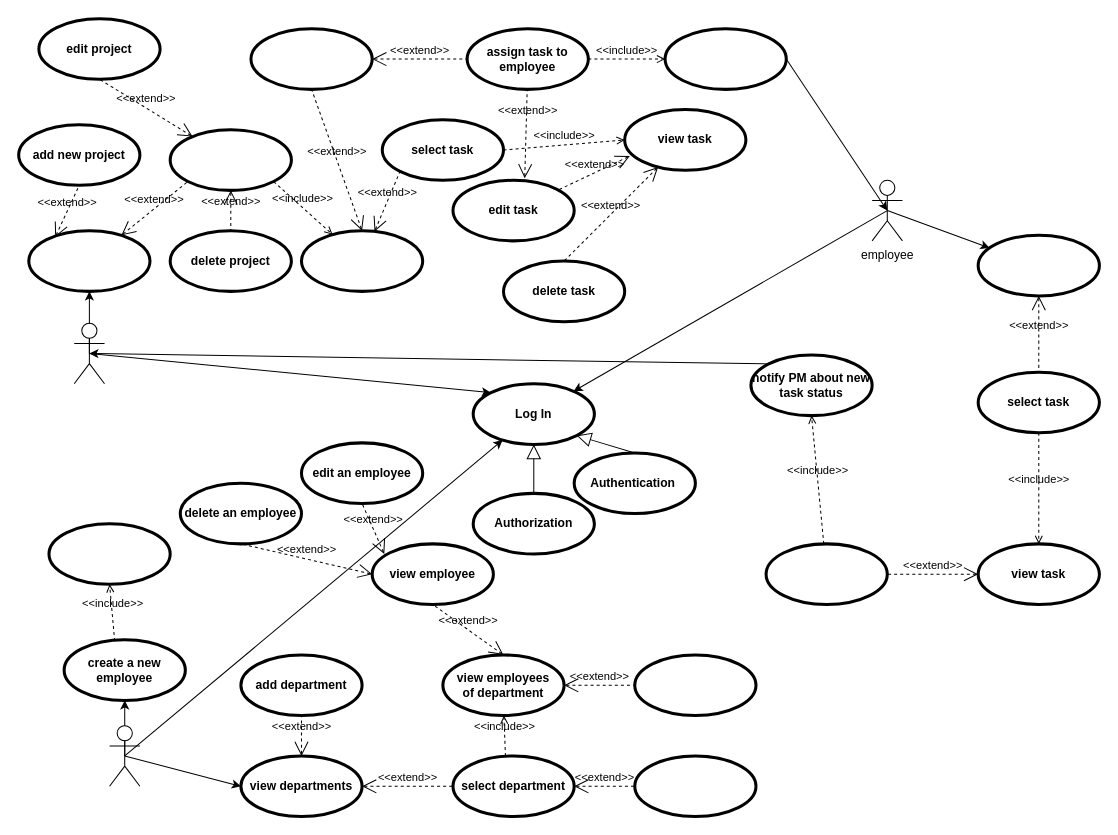
Image size: 1118x835. Some labels were removed from this diagram. Here are the shapes that lost their labels. From the top down, the box of each, then its label:
(249, 27, 373, 90): create new task
(663, 27, 787, 90): notify employee about new task
(168, 128, 292, 191): select project
(27, 229, 151, 292): view projects
(299, 229, 424, 292): view tasks for project
(976, 233, 1100, 297): view tasks
(73, 322, 105, 384): PM
(47, 522, 171, 585): assign a role of PM to an employee
(764, 542, 888, 605): change task status
(633, 653, 757, 717): assign an employee to department
(109, 725, 140, 786): admin
(633, 754, 757, 818): edit department
